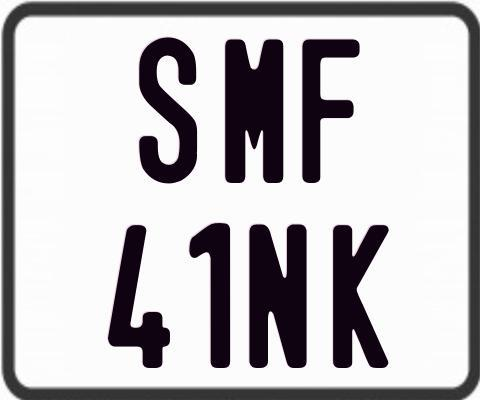1: (187, 221, 232, 366)
4: (107, 222, 175, 371)
F: (299, 38, 362, 188)
K: (333, 223, 393, 368)
M: (222, 36, 280, 182)
N: (249, 222, 309, 366)
S: (139, 34, 199, 180)
